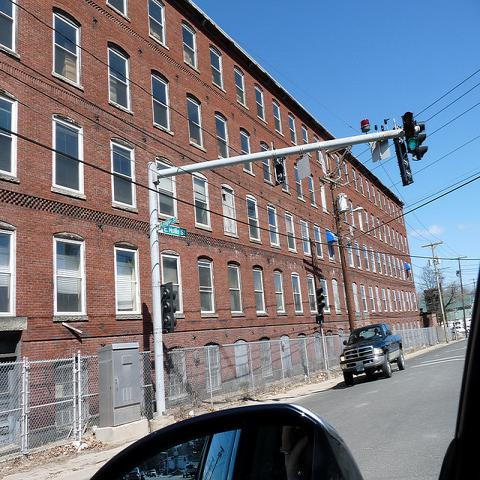car: (95, 403, 362, 473), (340, 321, 407, 388)
truck: (340, 323, 406, 385)
